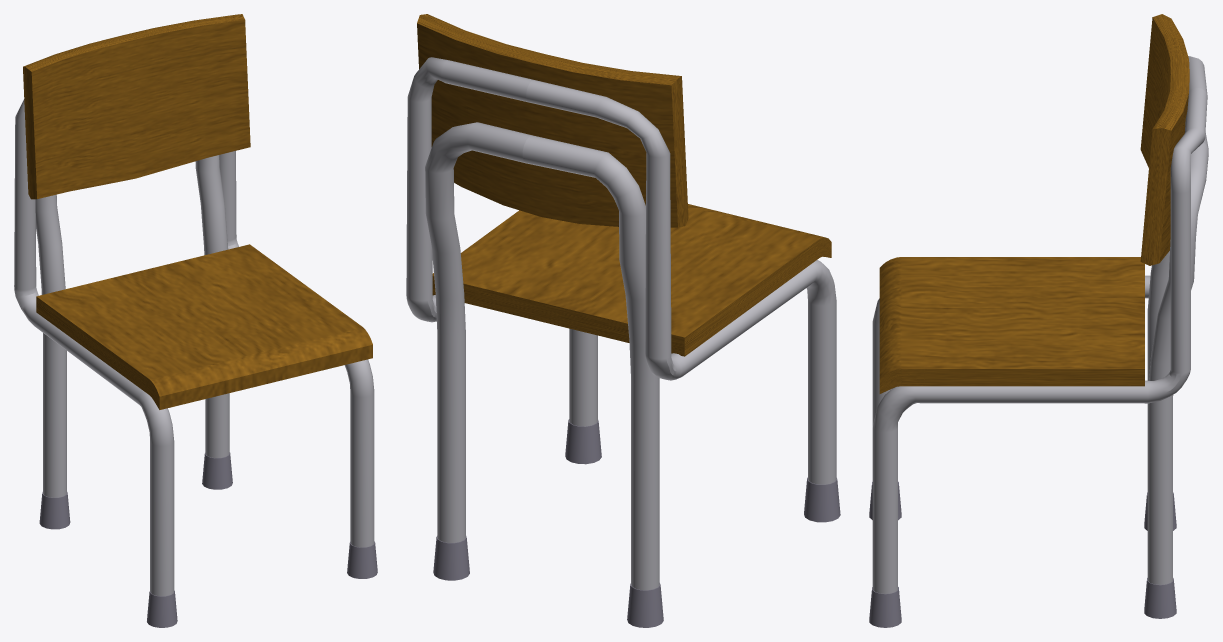
Rendered from Aseet_Chair.fbx.
The picture shows the model from 3 angles, left to right: view 1: azimuth 30°, elevation 25°; view 2: azimuth 150°, elevation 25°; view 3: azimuth 270°, elevation 25°; orthographic projection. The views are drawn at different scales.
Visible parts, largest first — view 1: SK_Chair; view 2: SK_Chair; view 3: SK_Chair.
Part boxes in pixels (x1=…): SK_Chair: x1=14, y1=14, x2=377, y2=627; SK_Chair: x1=406, y1=14, x2=840, y2=627; SK_Chair: x1=869, y1=14, x2=1208, y2=627.
Size of the model in its own units: 9.21 by 17.92 by 11.08.
